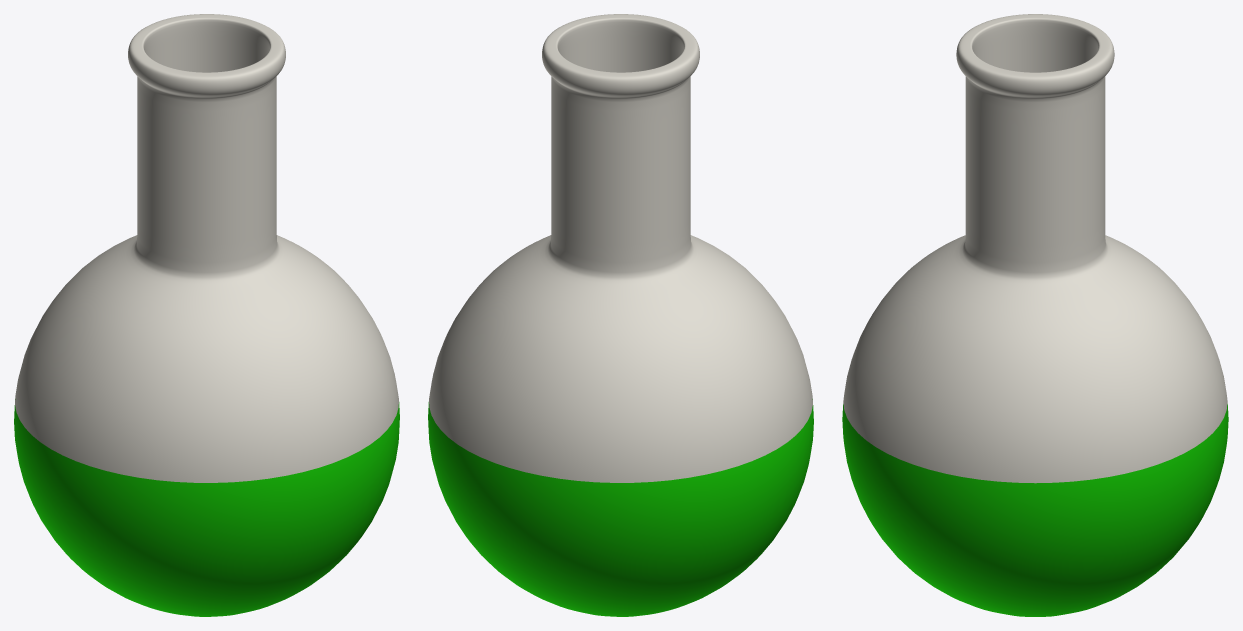
The model's file is potion_green.fbx.
3 renders of one model, left to right at view 1: azimuth 30°, elevation 25°; view 2: azimuth 150°, elevation 25°; view 3: azimuth 270°, elevation 25°, orthographic.
Visible parts, largest first — view 1: 17200_Round_bottom_flask; view 2: 17200_Round_bottom_flask; view 3: 17200_Round_bottom_flask.
Boxes of the visible parts, bbox=[...] form: 17200_Round_bottom_flask: bbox=[14, 14, 399, 616]; 17200_Round_bottom_flask: bbox=[428, 14, 813, 616]; 17200_Round_bottom_flask: bbox=[842, 14, 1228, 616].
Bounding box in the file's own units: 1185 × 1880 × 1185.
